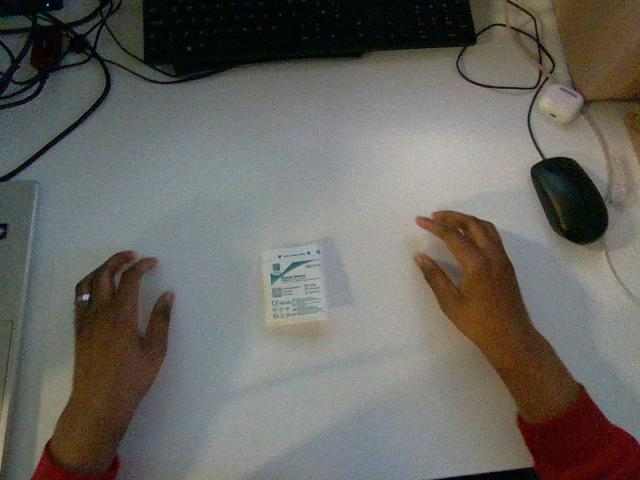gauze: (262, 244, 327, 325)
